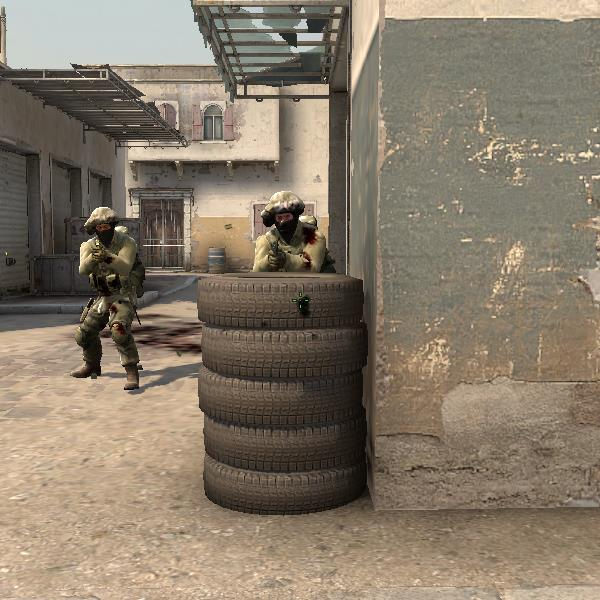ct_body: (219, 191, 344, 269)
ct_head: (262, 194, 309, 241)
